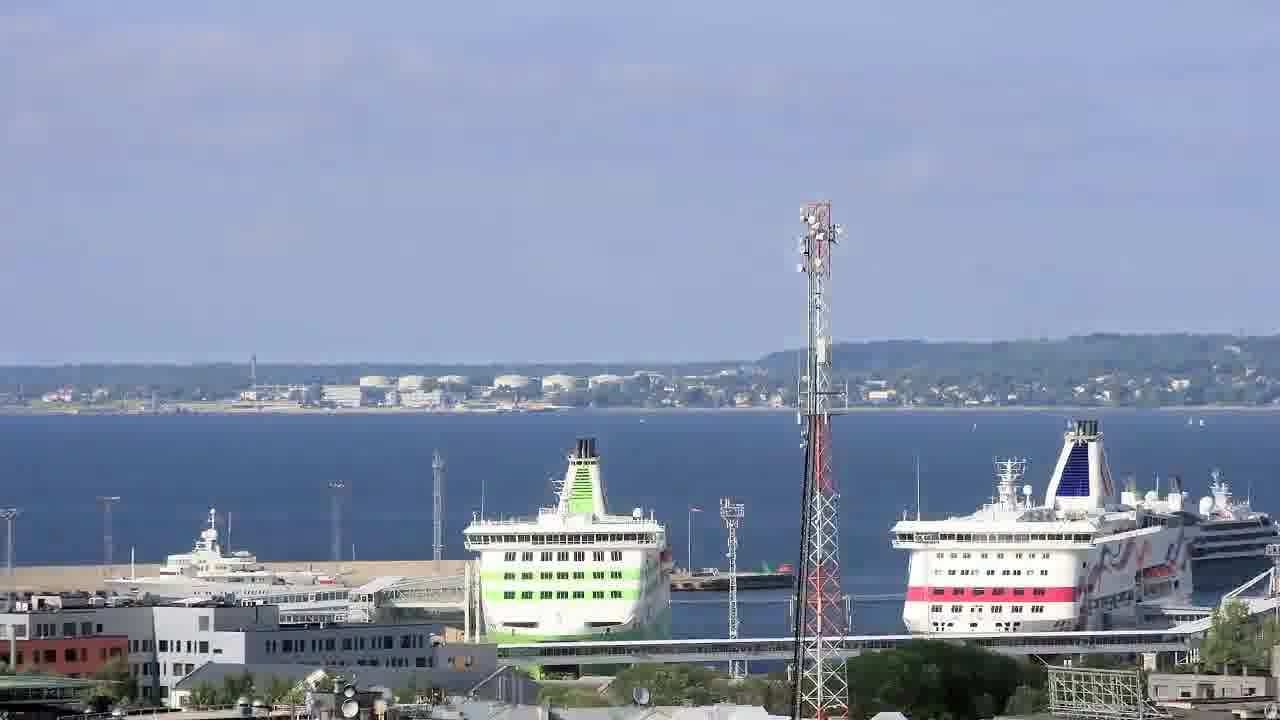type-3: (868, 415, 1225, 638), (436, 434, 694, 670), (95, 507, 356, 612), (1141, 467, 1279, 607)
